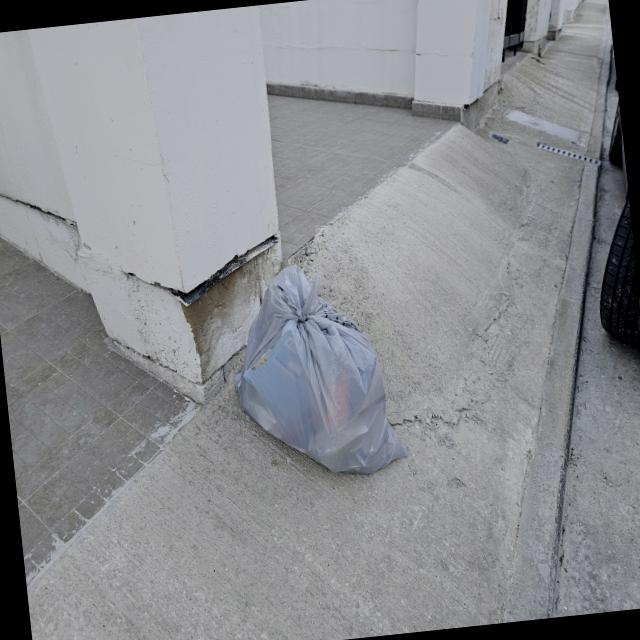grey_bag: (222, 254, 412, 487)
